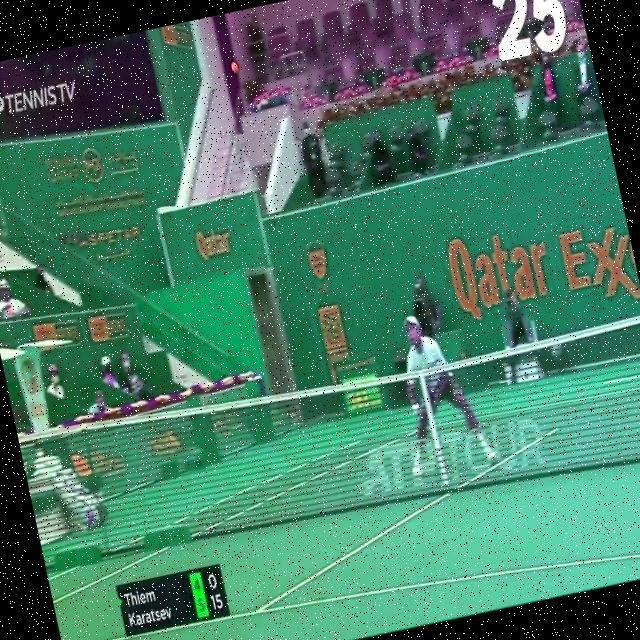net: (18, 301, 640, 584)
